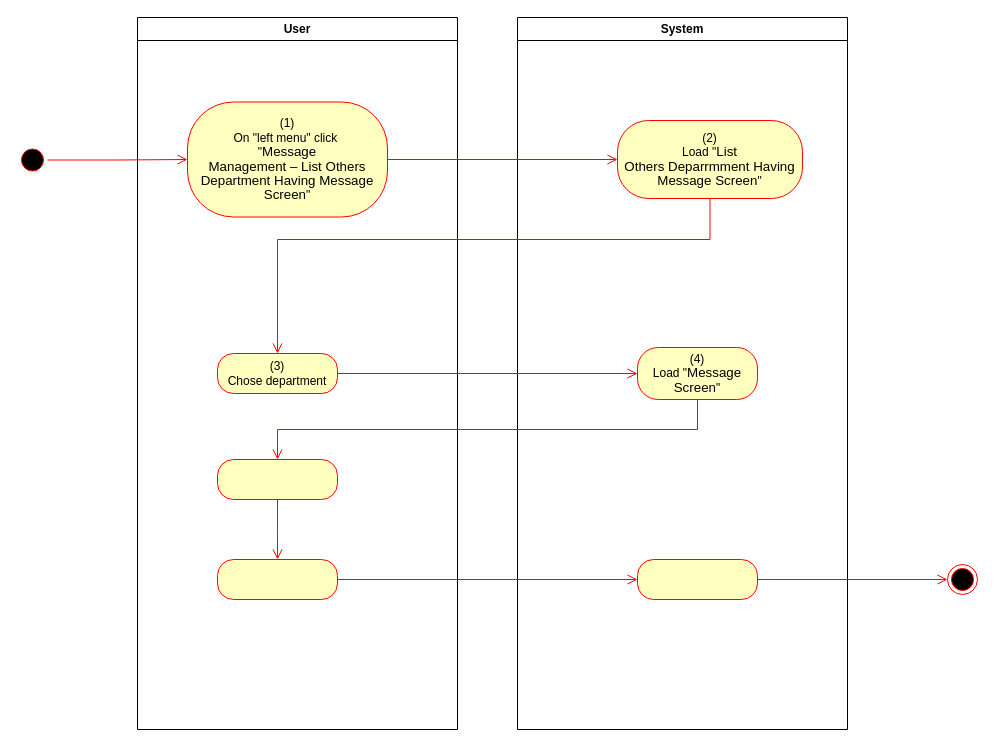
Image size: 995x747. Some labels were removed from this diagram. Each missing label, with the centre of its shape:
(5) Giving Message: (x=277, y=479)
(7) Click "Gửi": (x=277, y=579)
(8) Update UI and DB: (x=697, y=579)
